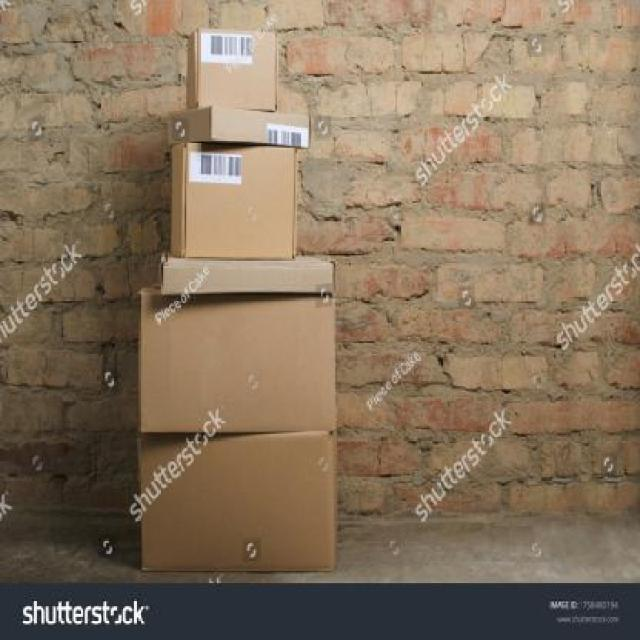BoxFace: (138, 294, 334, 436), (140, 429, 334, 568), (183, 143, 292, 260), (161, 259, 334, 296), (195, 30, 276, 109), (212, 108, 311, 150)
